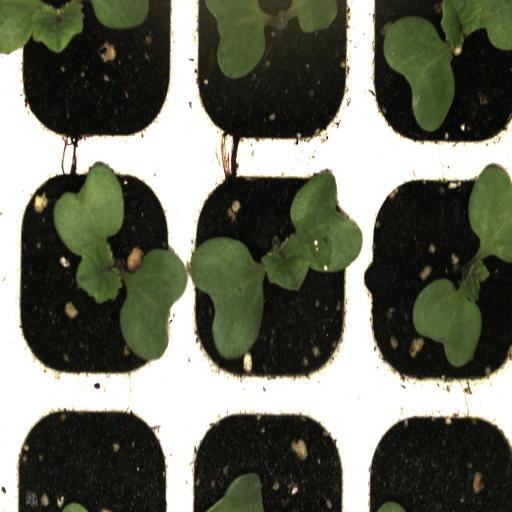Folha: (205, 0, 266, 80), (291, 0, 338, 41)
Germinacao: (8, 158, 183, 396), (185, 155, 355, 398), (353, 153, 512, 401), (363, 0, 512, 147)
